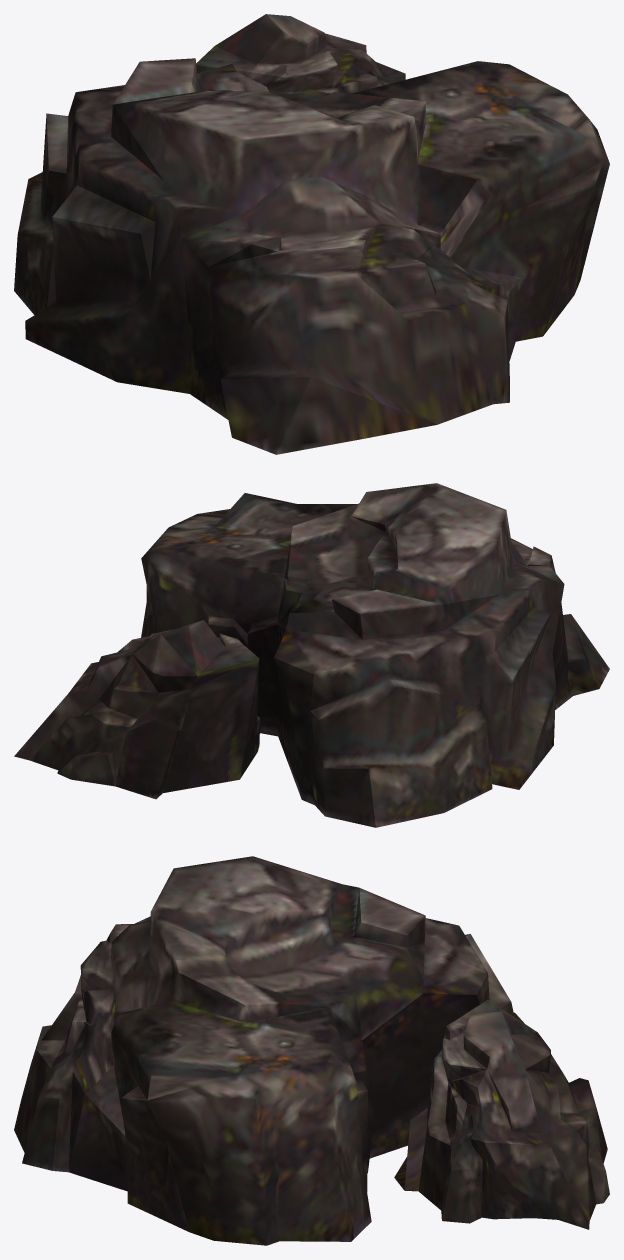
The model's file is tlfb03_shitou_00.FBX.
The picture shows the model from 3 angles, top to bottom: view 1: azimuth 30°, elevation 25°; view 2: azimuth 150°, elevation 25°; view 3: azimuth 270°, elevation 25°; orthographic projection. The views are drawn at different scales.
Visible parts, largest first — view 1: tlfb03_shitou_02, tlfb03_shitou_02_0; view 2: tlfb03_shitou_02, tlfb03_shitou_02_0; view 3: tlfb03_shitou_02, tlfb03_shitou_02_0.
Boxes of the visible parts, x1,y1,x2,y2 form: tlfb03_shitou_02: [14, 58, 609, 454]; tlfb03_shitou_02_0: [196, 14, 405, 94]; tlfb03_shitou_02: [141, 483, 609, 827]; tlfb03_shitou_02_0: [14, 620, 260, 799]; tlfb03_shitou_02: [14, 856, 524, 1245]; tlfb03_shitou_02_0: [394, 999, 609, 1229].
Bounding box in the file's own units: 338 × 150 × 374.
